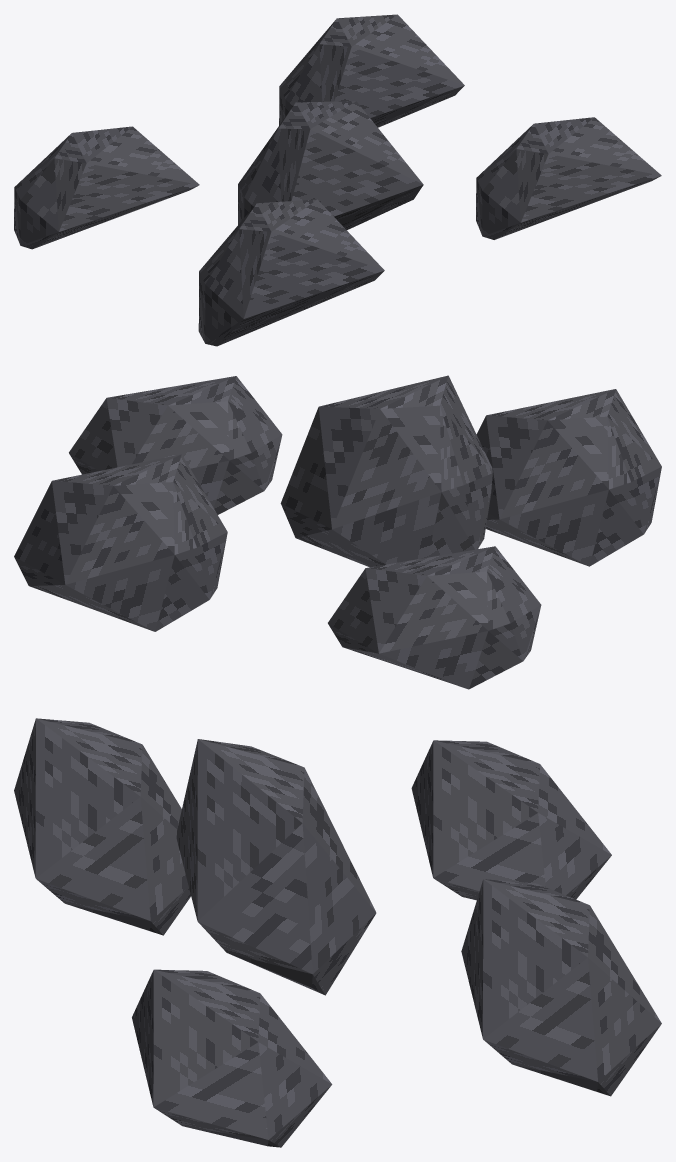
The model's file is charcoal.glb.
The picture shows the model from 3 angles, top to bottom: view 1: azimuth 30°, elevation 25°; view 2: azimuth 150°, elevation 25°; view 3: azimuth 270°, elevation 25°; orthographic projection. The views are drawn at different scales.
Visible parts, largest first — view 1: block_individual irregular fragment (×5); view 2: block_individual irregular fragment (×5); view 3: block_individual irregular fragment (×5).
Boxes of the visible parts, x1,y1,x2,y2 form: block_individual irregular fragment (×5): (14,14,661,346); block_individual irregular fragment (×5): (14,375,661,689); block_individual irregular fragment (×5): (14,718,661,1147).
Size of the model in its own units: 0.0327 by 0.00979 by 0.0267.
Materials: 1 (1 with a texture image).
